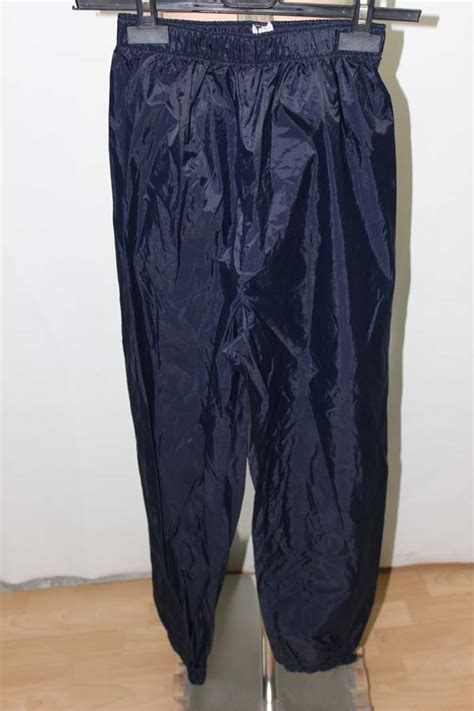nylon: (108, 16, 398, 681)
